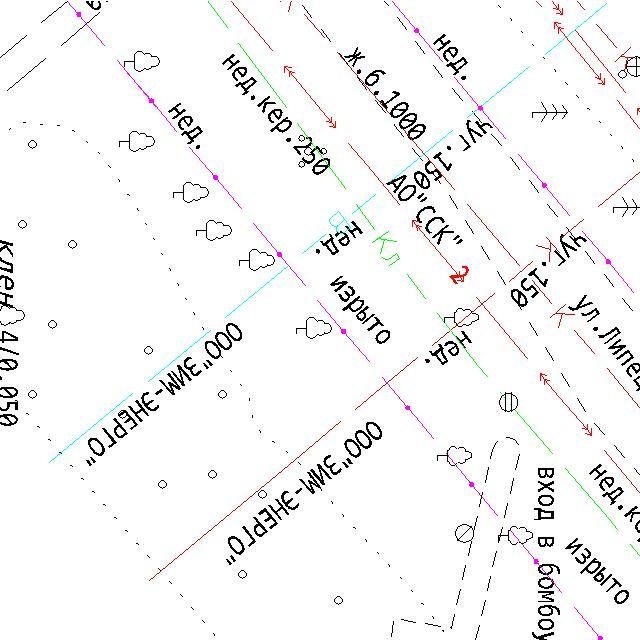tree: (295, 316, 335, 342), (118, 129, 157, 154), (122, 50, 162, 74), (530, 100, 570, 124), (194, 218, 233, 242), (172, 180, 210, 204), (238, 248, 276, 271), (442, 306, 480, 329), (496, 524, 535, 546), (436, 444, 473, 466)
well: (453, 521, 477, 545), (496, 391, 520, 414), (624, 53, 640, 79)
